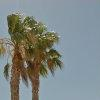Palm tree: (5, 7, 68, 86)
